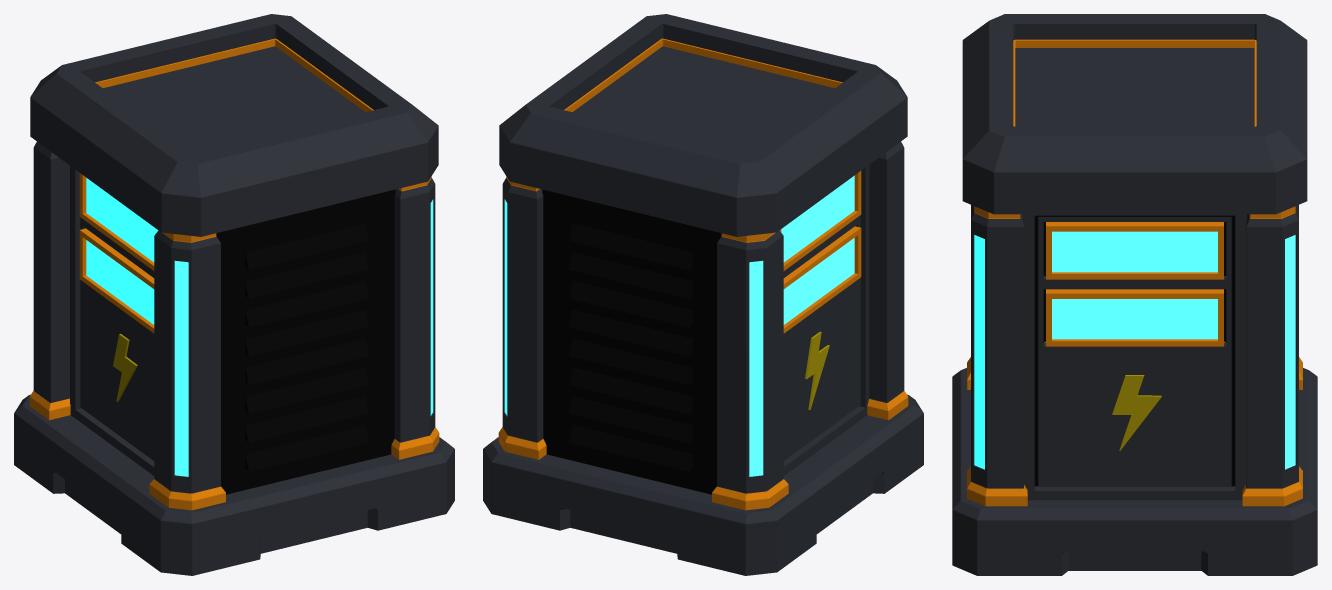
File: SM_Power_Cabinet.fbx
3 views of the same model, side by side, from view 1: azimuth 30°, elevation 25°; view 2: azimuth 150°, elevation 25°; view 3: azimuth 270°, elevation 25° (orthographic). The views are drawn at different scales.
Visible parts, largest first — view 1: SM_Power_Cabinet_Base; view 2: SM_Power_Cabinet_Base; view 3: SM_Power_Cabinet_Base.
Part boxes in pixels (x1=…): SM_Power_Cabinet_Base: x1=14, y1=14, x2=454, y2=575; SM_Power_Cabinet_Base: x1=483, y1=14, x2=923, y2=575; SM_Power_Cabinet_Base: x1=952, y1=14, x2=1317, y2=575.
Bounding box in the file's own units: 100 × 128 × 100.
